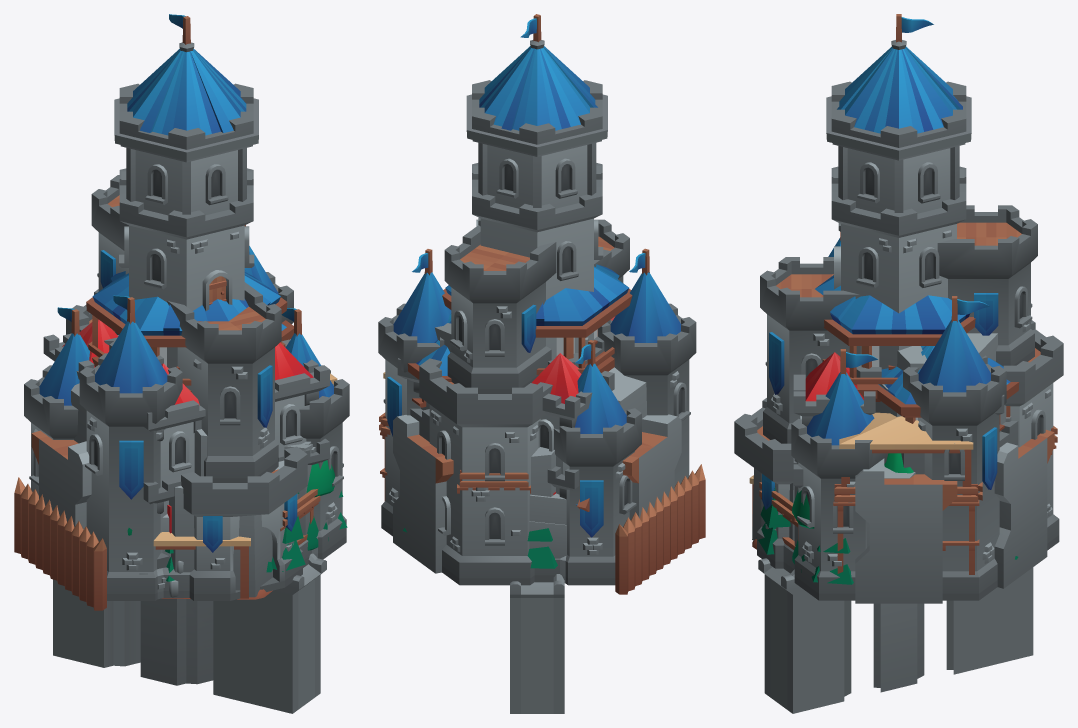
File: kit.glb
3 renders of one model, left to right at view 1: azimuth 30°, elevation 25°; view 2: azimuth 150°, elevation 25°; view 3: azimuth 270°, elevation 25°, orthographic. The views are drawn at different scales.
Parts seen in each view (by area): view 1: building_castle_blue, building_bridge_A, building_barracks_red, fence_wood_straight, building_tower_B_top_blue, mountain_C, wall_straight, building_scaffolding, trees_B_large, wall_corner_A_outside, trees_A_large; view 2: building_castle_blue, wall_corner_A_outside, building_bridge_A, fence_wood_straight, building_tower_B_top_blue, building_barracks_red, mountain_C, wall_straight, building_scaffolding, mountain_B, building_archeryrange_blue, mountain_A (+1 smaller); view 3: building_castle_blue, building_bridge_A, wall_straight, wall_corner_A_outside, building_tower_B_top_blue, building_scaffolding, building_barracks_red, building_archeryrange_blue, mountain_B, trees_A_large, mountain_C, trees_B_large.
Part boxes in pixels (<box>): building_castle_blue: <box>24,14,349,600</box>; building_bridge_A: <box>53,553,326,713</box>; building_barracks_red: <box>43,319,329,599</box>; fence_wood_straight: <box>14,477,106,610</box>; building_tower_B_top_blue: <box>86,270,287,391</box>; mountain_C: <box>71,383,309,597</box>; wall_straight: <box>31,431,91,529</box>; building_scaffolding: <box>153,373,337,598</box>; trees_B_large: <box>127,460,335,550</box>; wall_corner_A_outside: <box>32,430,86,501</box>; trees_A_large: <box>165,490,347,581</box>; building_castle_blue: <box>378,14,696,585</box>; wall_corner_A_outside: <box>393,414,681,573</box>; building_bridge_A: <box>510,574,564,713</box>; fence_wood_straight: <box>615,464,705,594</box>; building_tower_B_top_blue: <box>442,264,632,374</box>; building_barracks_red: <box>397,316,615,583</box>; mountain_C: <box>531,367,646,496</box>; wall_straight: <box>623,414,676,518</box>; building_scaffolding: <box>379,372,530,501</box>; mountain_B: <box>421,323,566,524</box>; building_archeryrange_blue: <box>407,314,589,511</box>; mountain_A: <box>529,521,566,558</box>; building_castle_blue: <box>734,14,1063,600</box>; building_bridge_A: <box>758,558,1033,713</box>; wall_straight: <box>855,458,957,603</box>; wall_corner_A_outside: <box>994,430,1054,588</box>; building_tower_B_top_blue: <box>815,275,975,401</box>; building_scaffolding: <box>749,412,1057,574</box>; building_barracks_red: <box>793,352,1004,487</box>; building_archeryrange_blue: <box>877,346,1019,474</box>; mountain_B: <box>867,333,1006,547</box>; trees_A_large: <box>756,487,1018,584</box>; mountain_C: <box>752,468,797,545</box>; trees_B_large: <box>792,490,814,572</box>.
Bounding box in the file's own units: 2.05 × 4.98 × 2.26.
Materials: 1 (1 with a texture image).
